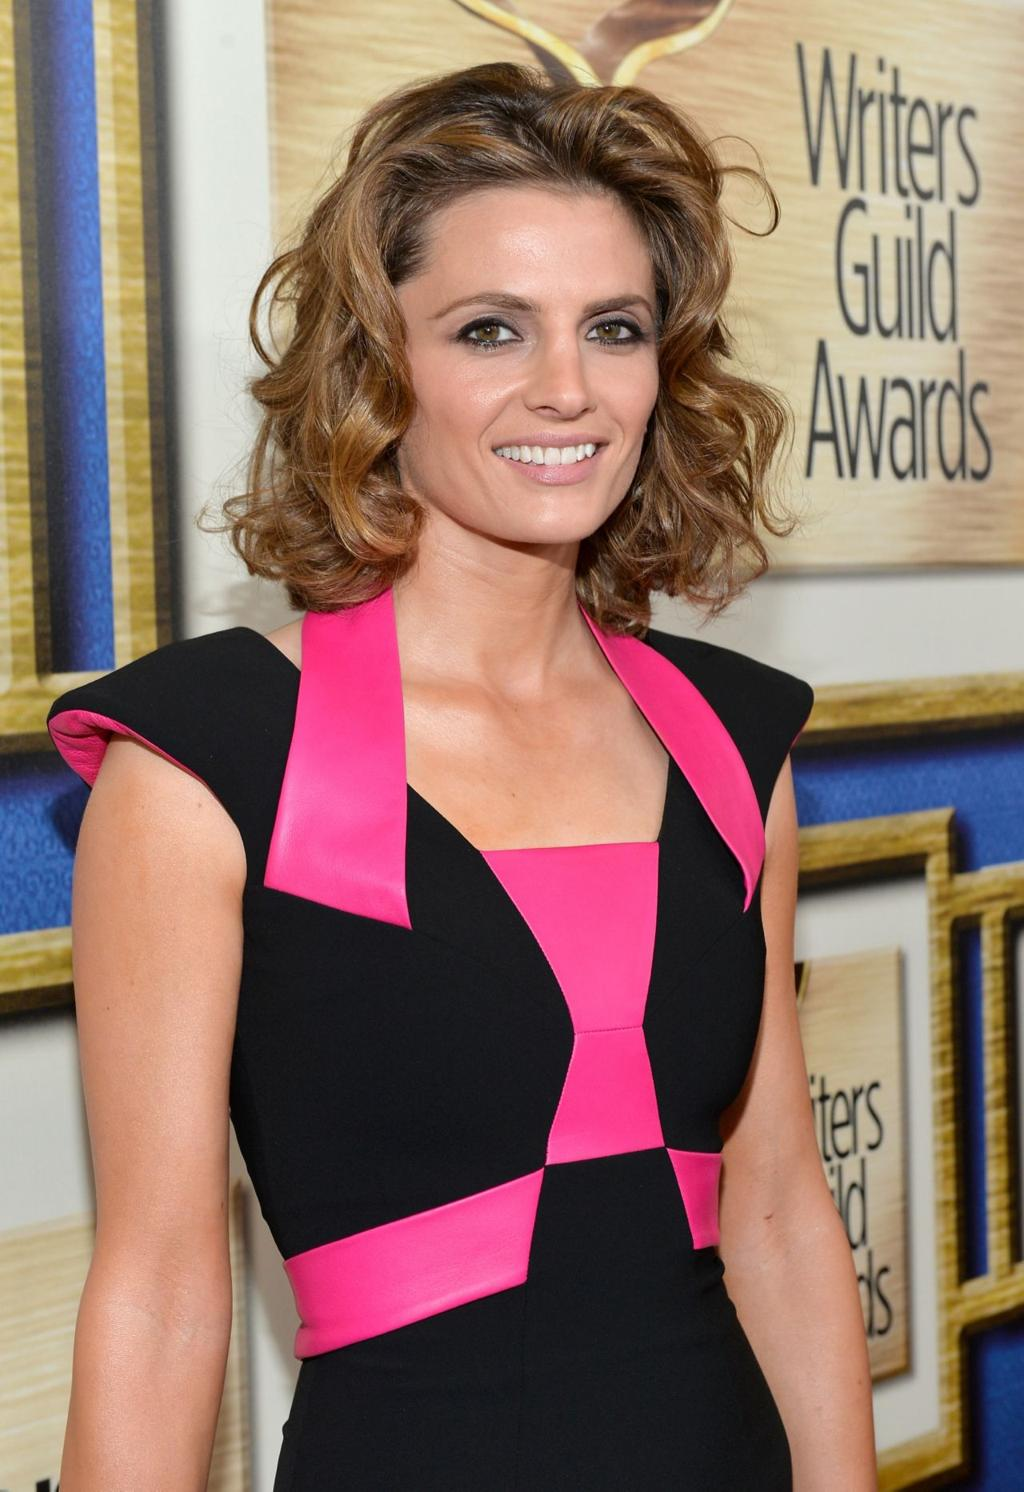face: (390, 183, 658, 541)
